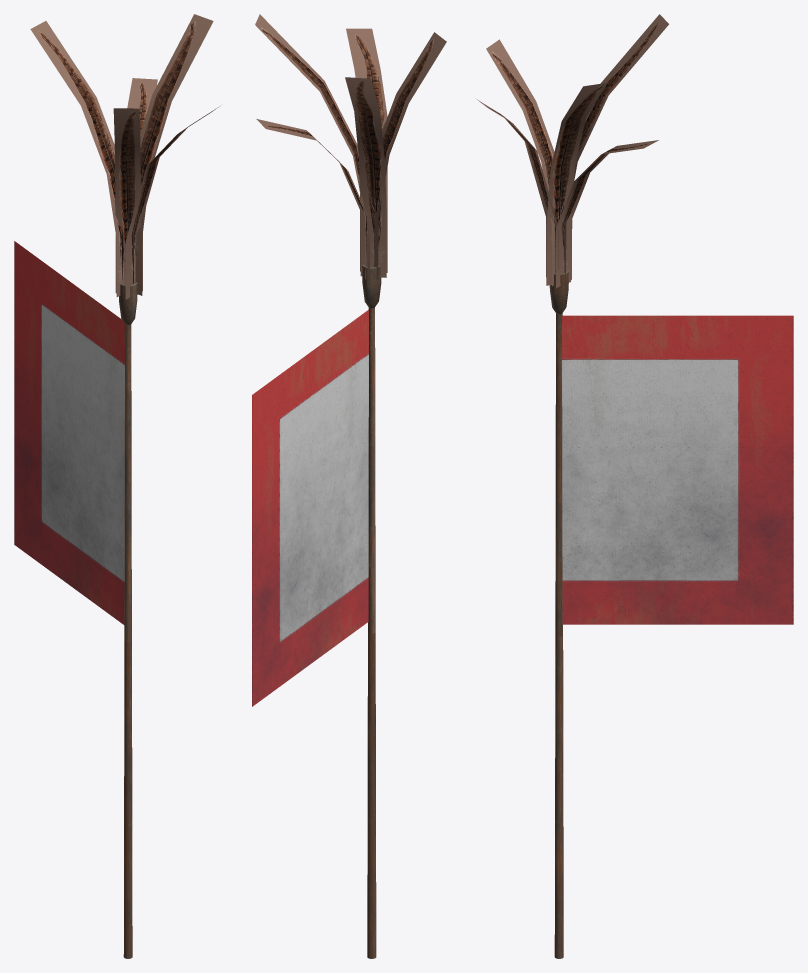
The model's file is SM_Flag01b.fbx.
3 renders of one model, left to right at view 1: azimuth 30°, elevation 25°; view 2: azimuth 150°, elevation 25°; view 3: azimuth 270°, elevation 25°, orthographic. The views are drawn at different scales.
Parts seen in each view (by area): view 1: SM_Flag01b; view 2: SM_Flag01b; view 3: SM_Flag01b.
Part boxes in pixels (left/top/right/bottom): SM_Flag01b: left=14, top=14, right=219, bottom=958; SM_Flag01b: left=252, top=14, right=446, bottom=958; SM_Flag01b: left=477, top=14, right=793, bottom=958.
Bounding box in the file's own units: 144 × 855 × 268.
